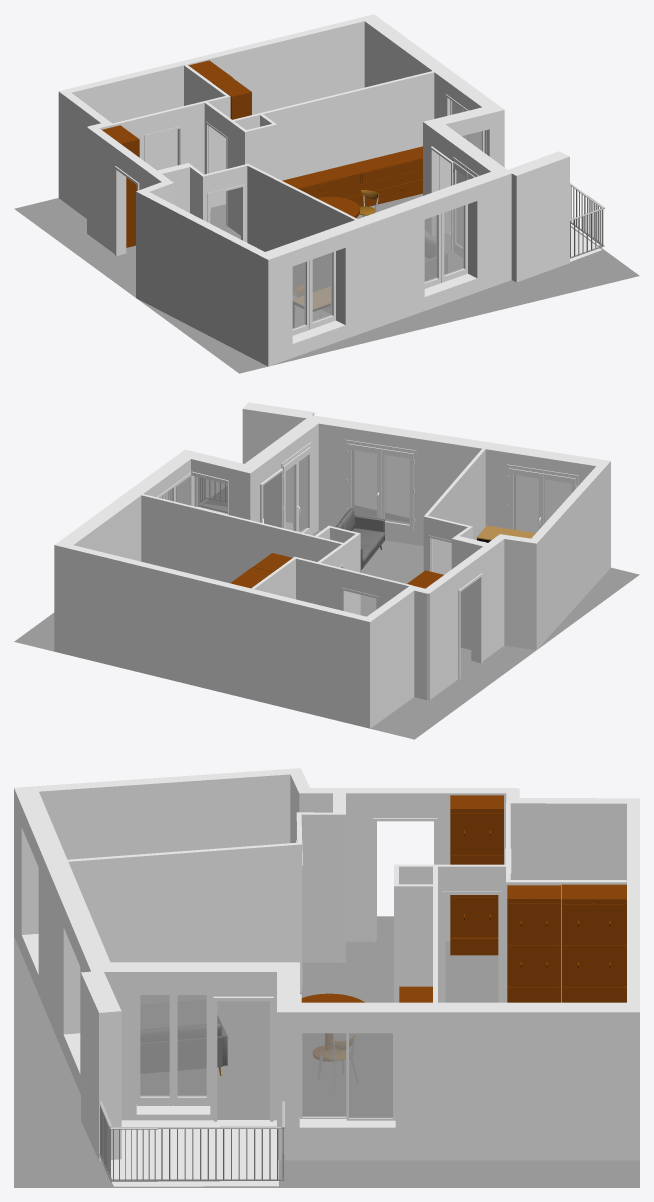
The model's file is mieszkanie.obj.
3 views of the same model, one above another, from view 1: azimuth 30°, elevation 25°; view 2: azimuth 150°, elevation 25°; view 3: azimuth 270°, elevation 25° (orthographic). The views are drawn at different scales.
Visible parts, largest first — view 1: wall_4_23, wall_3_17, ground_1, wall_9_53, wall_14_83, wall_22_130, wall_21_125, wall_1_5, wall_12_70, wall_10_59, wall_8_46, Corps_296 (+37 smaller); view 2: wall_9_52, wall_4_22, ground_1, wall_14_82, wall_3_17, wall_1_5, wall_8_46, wall_2_11, wall_21_125, wall_12_71, wall_10_59, wall_22_131 (+34 smaller); view 3: ground_1, wall_10_58, wall_21_124, wall_3_16, room_23_134, wall_8_47, wall_1_4, wall_19_112, wall_4_23, wall_5_29, wall_17_101, wall_22_130 (+49 smaller).
Part boxes in pixels (left/top/right/bottom): wall_4_23: left=268, top=173, right=511, bottom=366; wall_3_17: left=136, top=191, right=268, bottom=366; ground_1: left=14, top=193, right=639, bottom=373; wall_9_53: left=71, top=21, right=364, bottom=170; wall_14_83: left=234, top=72, right=434, bottom=180; wall_22_130: left=511, top=156, right=569, bottom=282; wall_21_125: left=247, top=166, right=354, bottom=313; wall_1_5: left=87, top=127, right=161, bottom=253; wall_12_70: left=112, top=96, right=230, bottom=207; wall_10_59: left=364, top=21, right=481, bottom=118; wall_8_46: left=58, top=92, right=100, bottom=218; Corps_296: left=282, top=146, right=422, bottom=206; wall_9_52: left=54, top=545, right=369, bottom=728; wall_4_22: left=318, top=423, right=595, bottom=546; ground_1: left=14, top=486, right=639, bottom=739; wall_14_82: left=141, top=495, right=341, bottom=583; wall_3_17: left=536, top=461, right=610, bottom=649; wall_1_5: left=428, top=539, right=504, bottom=700; wall_8_46: left=370, top=591, right=414, bottom=728; wall_2_11: left=504, top=539, right=536, bottom=650; wall_21_125: left=428, top=449, right=485, bottom=574; wall_12_71: left=296, top=558, right=408, bottom=610; wall_10_59: left=74, top=459, right=190, bottom=561; wall_22_131: left=242, top=409, right=306, bottom=522; ground_1: left=14, top=916, right=639, bottom=1187; wall_10_58: left=279, top=1012, right=639, bottom=1160; wall_21_124: left=68, top=844, right=301, bottom=1003; wall_3_16: left=39, top=774, right=290, bottom=859; room_23_134: left=111, top=1120, right=278, bottom=1186; wall_8_47: left=510, top=803, right=626, bottom=884; wall_1_4: left=299, top=793, right=506, bottom=941; wall_19_112: left=301, top=814, right=345, bottom=962; wall_4_23: left=14, top=788, right=90, bottom=1094; wall_5_29: left=104, top=972, right=276, bottom=1120; wall_17_101: left=394, top=886, right=432, bottom=1002; wall_22_130: left=81, top=973, right=110, bottom=1160.
Bounding box in the file's own units: 983 × 250 × 958.
